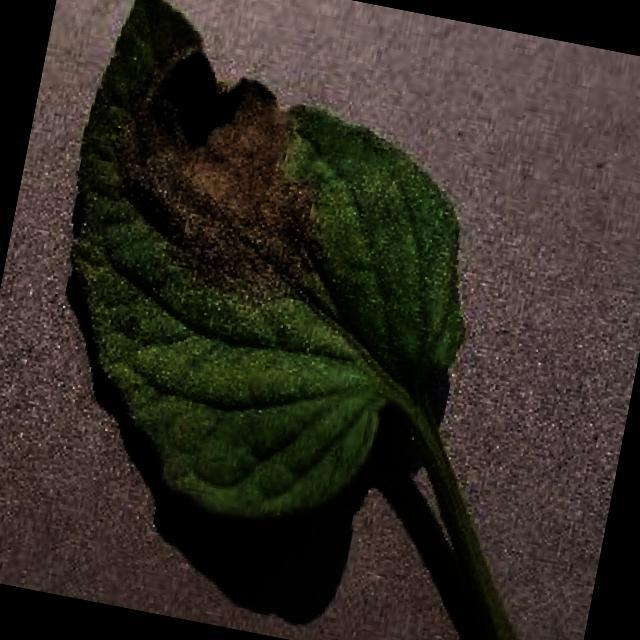Tomato late blight leaf: (10, 0, 520, 568)
